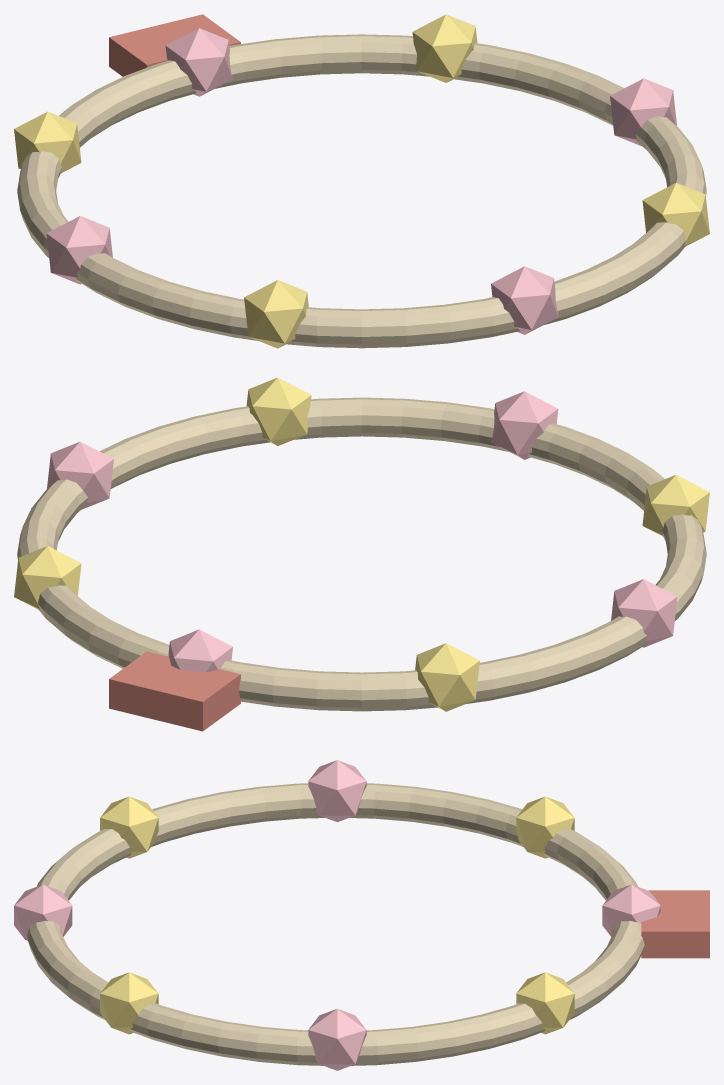
File: 18-Casas_decor_guirnalda.glb
3 views of the same model, one above another, from view 1: azimuth 30°, elevation 25°; view 2: azimuth 150°, elevation 25°; view 3: azimuth 270°, elevation 25° (orthographic). The views are drawn at different scales.
Parts seen in each view (by area): view 1: SM_Guirnalda_Cuerda, SM_Guirnalda_Lazo, SM_Guirnalda_Flor.005, SM_Guirnalda_Flor.001, SM_Guirnalda_Flor.006, SM_Guirnalda_Flor.002, SM_Guirnalda_Flor.004, SM_Guirnalda_Flor, SM_Guirnalda_Flor.007, SM_Guirnalda_Flor.003; view 2: SM_Guirnalda_Cuerda, SM_Guirnalda_Lazo, SM_Guirnalda_Flor.003, SM_Guirnalda_Flor.007, SM_Guirnalda_Flor.006, SM_Guirnalda_Flor.004, SM_Guirnalda_Flor, SM_Guirnalda_Flor.001, SM_Guirnalda_Flor.005, SM_Guirnalda_Flor.002; view 3: SM_Guirnalda_Cuerda, SM_Guirnalda_Lazo, SM_Guirnalda_Flor, SM_Guirnalda_Flor.004, SM_Guirnalda_Flor.001, SM_Guirnalda_Flor.007, SM_Guirnalda_Flor.005, SM_Guirnalda_Flor.003, SM_Guirnalda_Flor.006, SM_Guirnalda_Flor.002.
Part boxes in pixels (left/top/right/bottom): SM_Guirnalda_Cuerda: left=17, top=34, right=706, bottom=348; SM_Guirnalda_Lazo: left=109, top=14, right=240, bottom=76; SM_Guirnalda_Flor.005: left=244, top=280, right=308, bottom=348; SM_Guirnalda_Flor.001: left=412, top=14, right=477, bottom=82; SM_Guirnalda_Flor.006: left=491, top=266, right=558, bottom=334; SM_Guirnalda_Flor.002: left=165, top=28, right=232, bottom=96; SM_Guirnalda_Flor.004: left=46, top=216, right=112, bottom=284; SM_Guirnalda_Flor: left=610, top=78, right=676, bottom=146; SM_Guirnalda_Flor.007: left=642, top=182, right=709, bottom=246; SM_Guirnalda_Flor.003: left=14, top=111, right=81, bottom=173; SM_Guirnalda_Cuerda: left=17, top=397, right=706, bottom=711; SM_Guirnalda_Lazo: left=109, top=651, right=240, bottom=731; SM_Guirnalda_Flor.003: left=415, top=643, right=479, bottom=711; SM_Guirnalda_Flor.007: left=246, top=377, right=311, bottom=445; SM_Guirnalda_Flor.006: left=491, top=391, right=558, bottom=459; SM_Guirnalda_Flor.004: left=611, top=579, right=677, bottom=647; SM_Guirnalda_Flor: left=47, top=441, right=113, bottom=509; SM_Guirnalda_Flor.001: left=14, top=546, right=81, bottom=609; SM_Guirnalda_Flor.005: left=642, top=474, right=709, bottom=536; SM_Guirnalda_Flor.002: left=168, top=629, right=232, bottom=672; SM_Guirnalda_Cuerda: left=27, top=783, right=644, bottom=1065; SM_Guirnalda_Lazo: left=641, top=890, right=709, bottom=958; SM_Guirnalda_Flor: left=308, top=1008, right=366, bottom=1070; SM_Guirnalda_Flor.004: left=308, top=760, right=366, bottom=822; SM_Guirnalda_Flor.001: left=516, top=972, right=574, bottom=1034; SM_Guirnalda_Flor.007: left=100, top=972, right=158, bottom=1034; SM_Guirnalda_Flor.005: left=100, top=796, right=158, bottom=858; SM_Guirnalda_Flor.003: left=516, top=796, right=574, bottom=858; SM_Guirnalda_Flor.006: left=14, top=884, right=72, bottom=940; SM_Guirnalda_Flor.002: left=602, top=884, right=660, bottom=936.
Bounding box in the file's own units: 0.6626 × 0.07 × 0.7098.
